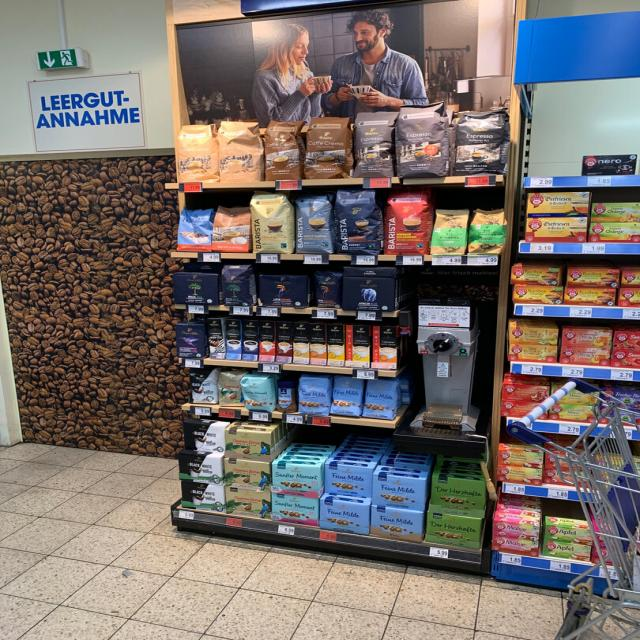AB Gemahlen: (342, 276, 396, 312)
Athiopien Bohne: (469, 208, 507, 255)
Athiopien Gemahlen: (434, 208, 468, 255)
BM Bohne: (220, 264, 255, 307)
BM Gemahlen: (172, 272, 220, 306)
BW Bohne: (188, 367, 218, 405)
BW Gemahlen: (177, 452, 223, 486), (181, 480, 225, 513), (182, 421, 225, 454)
Barista CB: (250, 190, 294, 255)
Barista CC: (294, 193, 335, 256)
Barista Espresso: (335, 189, 382, 255)
Barista Kolumbien: (385, 187, 432, 256)
C Fino Bohne: (175, 322, 205, 359)
CC Mild: (215, 118, 263, 184), (175, 122, 216, 183)
CC Vollmundig: (212, 205, 250, 253)
CC Vollmundig 36 Pads: (304, 116, 351, 179), (263, 117, 303, 181)
Colombia BB Bohne: (218, 372, 244, 406)
Colombia BB Gemahlen: (224, 459, 270, 492), (225, 487, 271, 520), (224, 430, 271, 462)
Espresso Aromatisch: (353, 107, 396, 178)
Espresso M Art: (398, 103, 450, 178)
Espresso S Art: (456, 109, 507, 176)
FM 36 Pads: (177, 206, 211, 252)
FM Bohne: (364, 378, 396, 421), (332, 374, 362, 417), (298, 376, 330, 416)
FM Gemahlen: (372, 473, 427, 512), (370, 506, 423, 544), (320, 497, 369, 536), (324, 464, 373, 499)
FM Instant: (276, 377, 298, 413)
Herzhatfe Mundig: (428, 476, 487, 518), (425, 512, 482, 550)
LG Bohne: (312, 270, 341, 309)
LG Gemahlen: (257, 273, 309, 308)
SM Bohne: (240, 375, 276, 412)
SM Gemahlen: (271, 464, 320, 498), (271, 494, 319, 527)
Simo CCMild: (346, 325, 370, 367)
Simo CCMild bigpack: (327, 324, 344, 367)
Simo CCVollmundig: (373, 326, 396, 370)
Simo CCVollmundig bigpack: (309, 323, 327, 365)
Simo Decaff: (293, 322, 309, 365)
Simo Es Brazil: (258, 320, 275, 362)
Simo Es Caramel: (275, 322, 293, 363)
Simo Es Elegant: (207, 318, 224, 359)
Simo Es Kraft: (242, 319, 258, 361)
Simo Es Vanilla: (226, 320, 241, 360)
